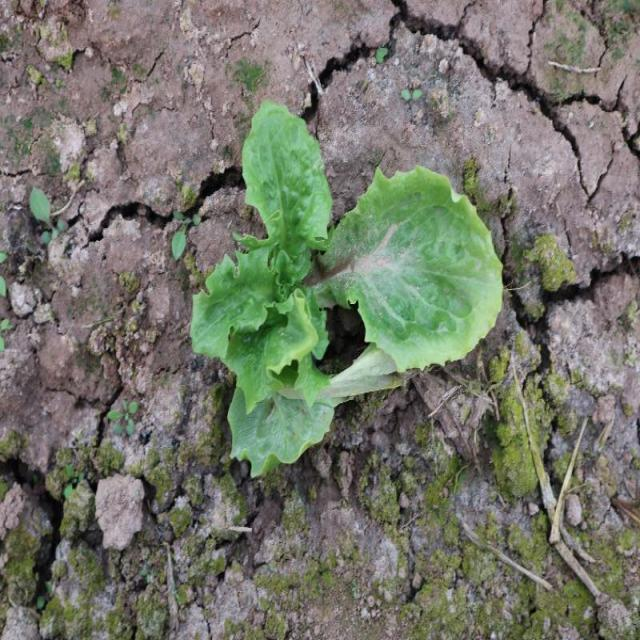crop: (191, 99, 504, 477)
